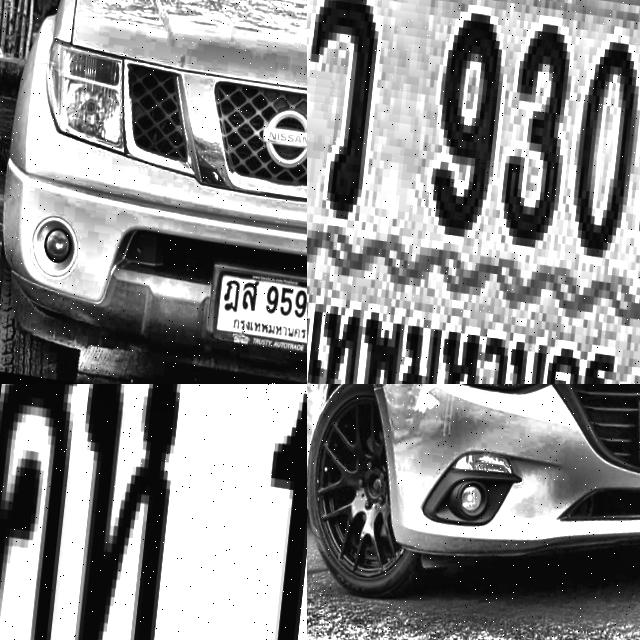license-plate: (307, 0, 640, 384), (0, 384, 307, 640), (200, 252, 307, 358)
